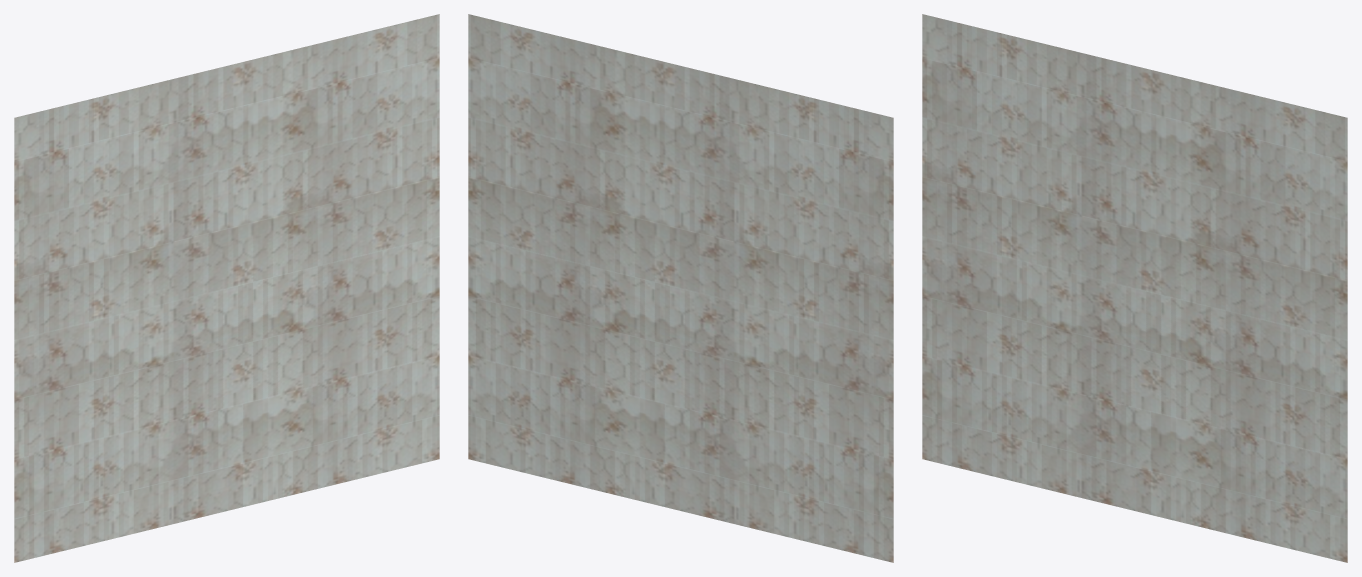
The model's file is wall._3x3_kabinet_test.glb.
The picture shows the model from 3 angles, left to right: view 1: azimuth 30°, elevation 25°; view 2: azimuth 150°, elevation 25°; view 3: azimuth 330°, elevation 25°; orthographic projection.
Visible parts, largest first — view 1: Plane; view 2: Plane; view 3: Plane.
Part boxes in pixels (left/top/right/bottom): Plane: left=14, top=14, right=439, bottom=562; Plane: left=468, top=14, right=893, bottom=562; Plane: left=922, top=14, right=1347, bottom=562.
Bounding box in the file's own units: 3 × 3 × 8.74e-08.
1 material, 1 textured.
